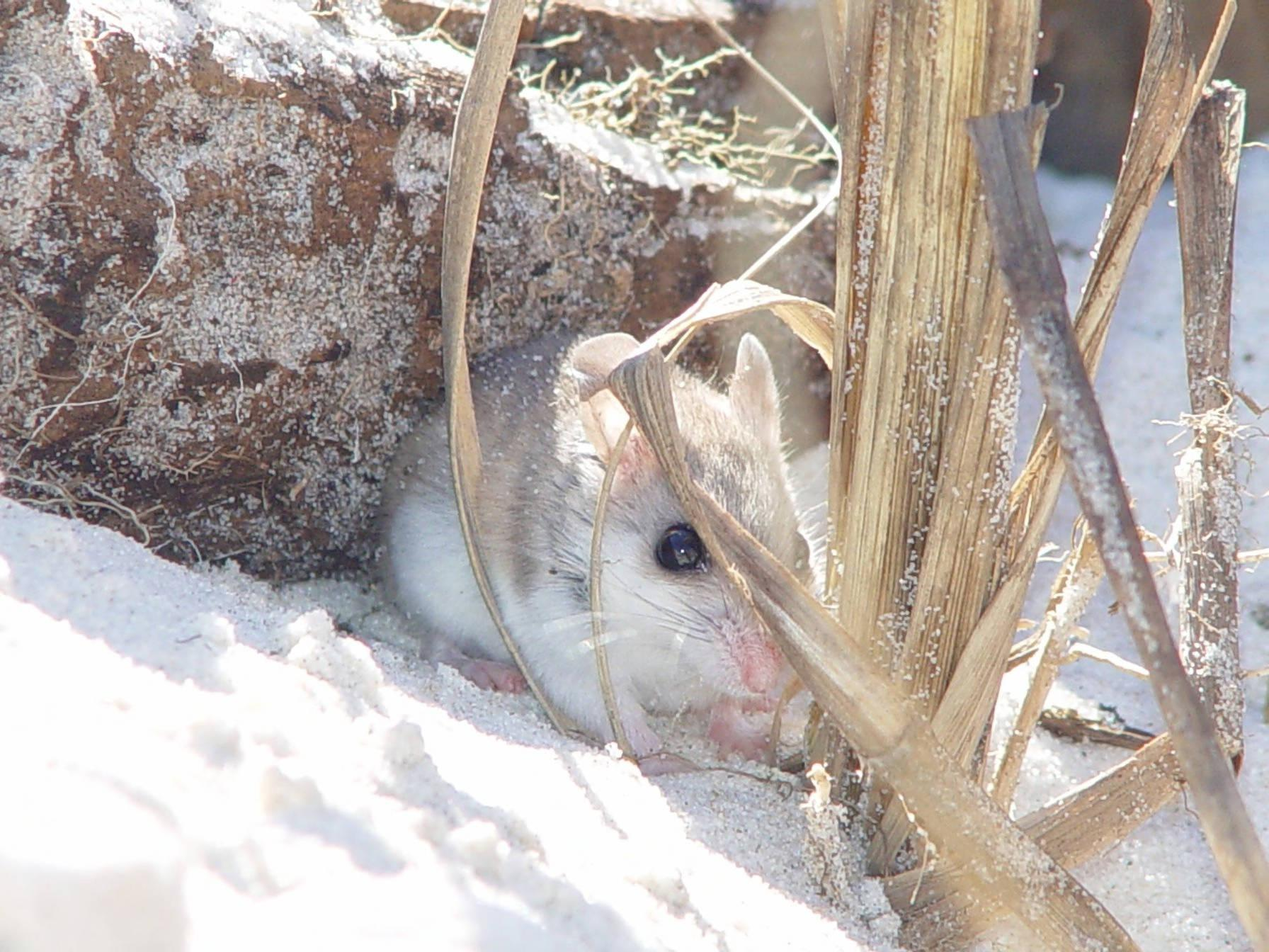rat: (386, 332, 827, 776)
